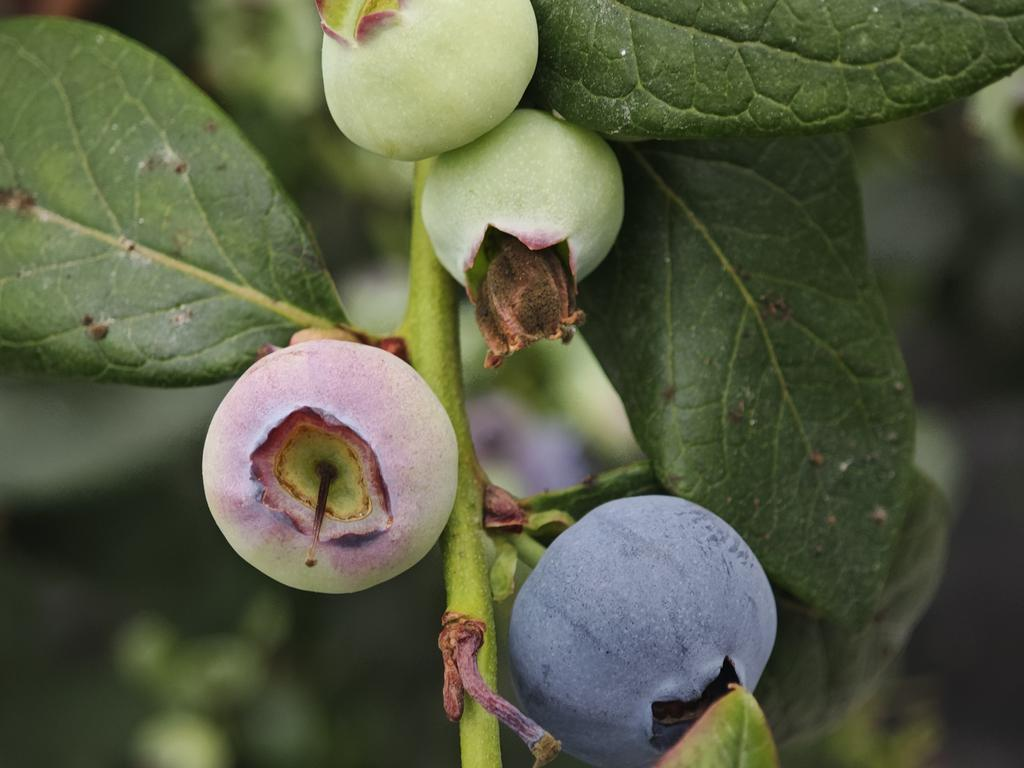RipeBlueBerry: (505, 489, 781, 764)
Semi-RipeBlueBerry: (199, 338, 464, 601)
UnripeBlueBerry: (418, 100, 629, 327)
